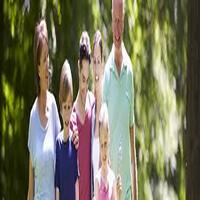person: (21, 25, 61, 97), (96, 104, 125, 172), (107, 2, 139, 56), (60, 57, 78, 140)
